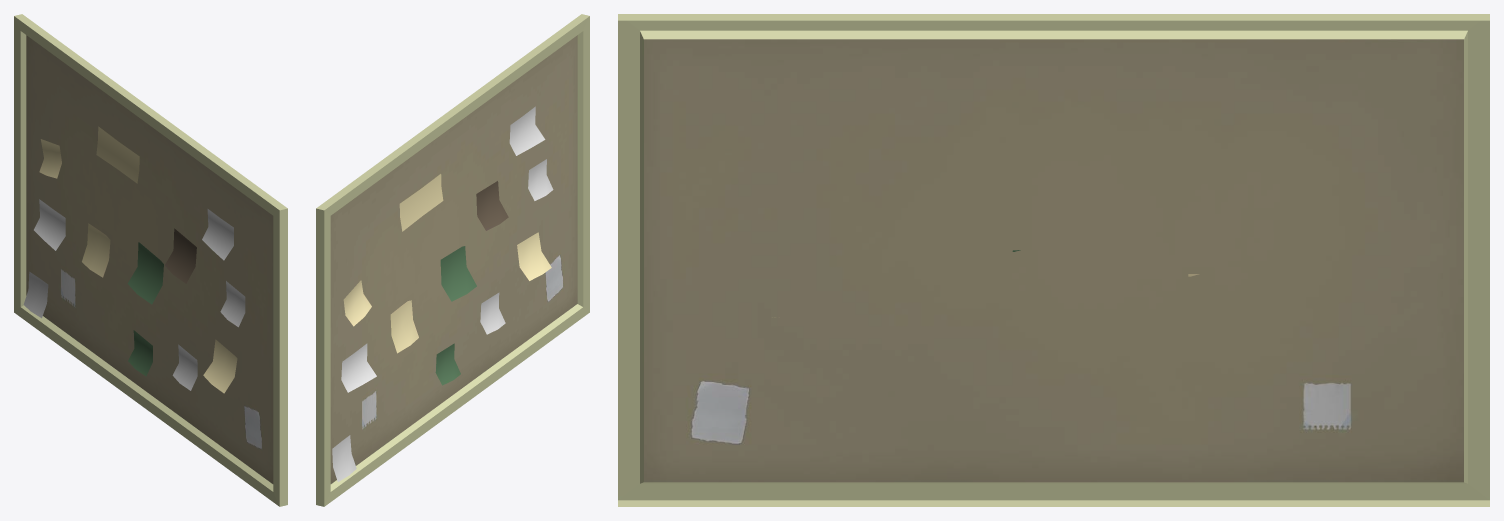
File: Board02.FBX
3 views of the same model, side by side, from view 1: azimuth 30°, elevation 25°; view 2: azimuth 150°, elevation 25°; view 3: azimuth 270°, elevation 25° (orthographic). The views are drawn at different scales.
Visible parts, largest first — view 1: Box011; view 2: Box011; view 3: Box011.
Boxes of the visible parts, x1=… form: Box011: x1=14, y1=14, x2=287, y2=506; Box011: x1=316, y1=14, x2=589, y2=506; Box011: x1=618, y1=14, x2=1489, y2=506.
Bounding box in the file's own units: 22.58 × 341 × 553.
Materials: 1 (1 with a texture image).
